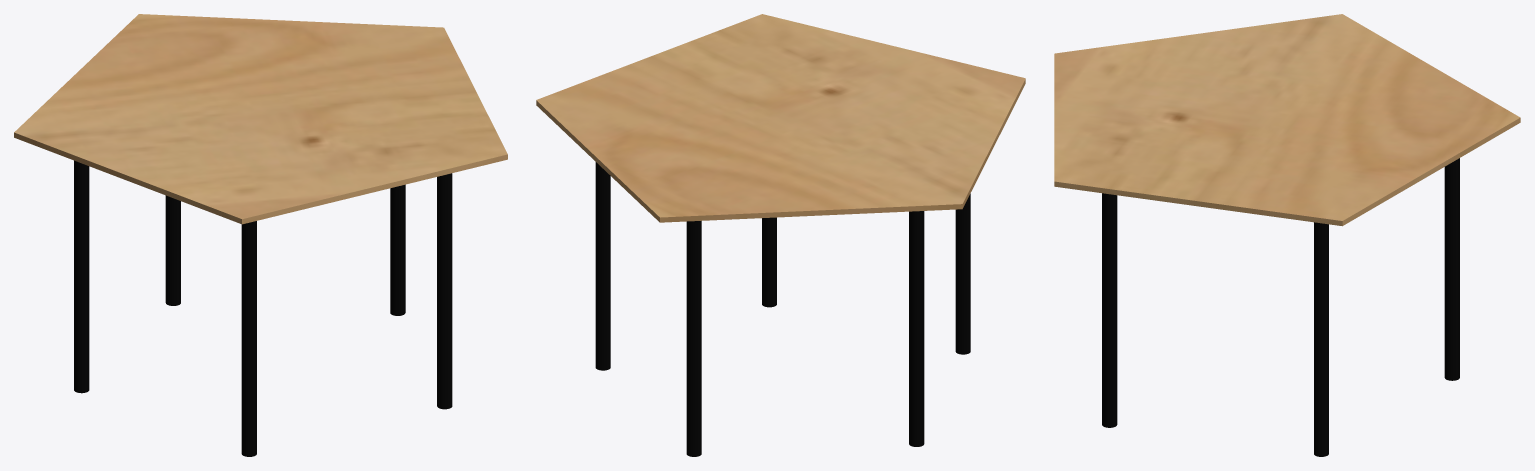
Rendered from pentagon_new2.fbx.
The picture shows the model from 3 angles, left to right: view 1: azimuth 30°, elevation 25°; view 2: azimuth 150°, elevation 25°; view 3: azimuth 270°, elevation 25°; orthographic projection.
Visible parts, largest first — view 1: 円柱, leg2, leg3, leg5, leg4, leg1; view 2: 円柱, leg5, leg1, leg4, leg3, leg2; view 3: 円柱, leg2, leg4, leg1.
Part boxes in pixels (x1,y1,x2,y2): 円柱: [14, 14, 507, 224]; leg2: [437, 173, 452, 409]; leg3: [241, 221, 256, 456]; leg5: [74, 160, 89, 393]; leg4: [390, 184, 405, 315]; leg1: [165, 195, 180, 305]; 円柱: [536, 14, 1025, 222]; leg5: [909, 211, 924, 446]; leg1: [686, 221, 701, 456]; leg4: [595, 162, 610, 370]; leg3: [955, 193, 970, 354]; leg2: [762, 217, 776, 307]; 円柱: [1054, 14, 1520, 226]; leg2: [1102, 193, 1117, 427]; leg4: [1314, 222, 1328, 456]; leg1: [1444, 158, 1459, 380].
Size of the model in its own units: 1293 by 758 by 1230.
2 materials, 1 textured.
